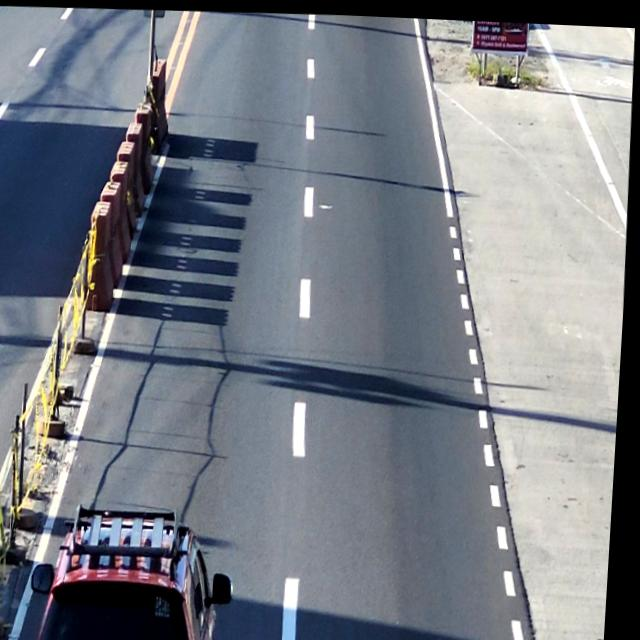Car: (42, 508, 227, 640)
